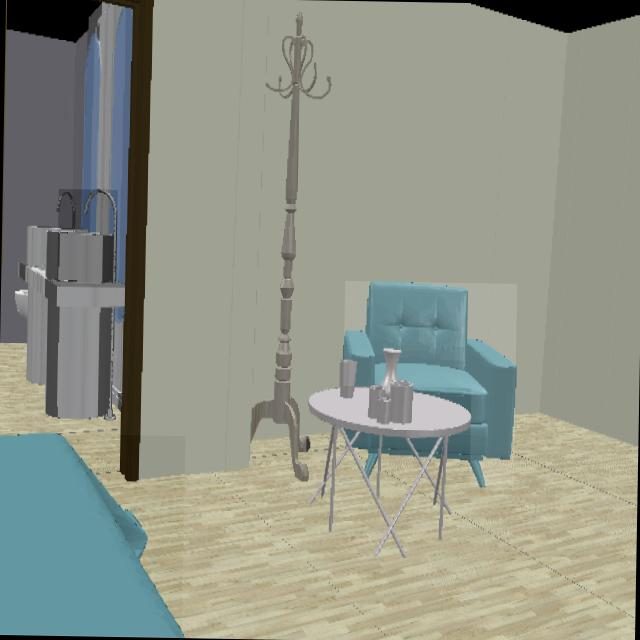bed: (0, 433, 182, 636)
sofa: (343, 281, 515, 485)
table: (309, 386, 470, 556)
washbasin: (57, 190, 117, 282)
